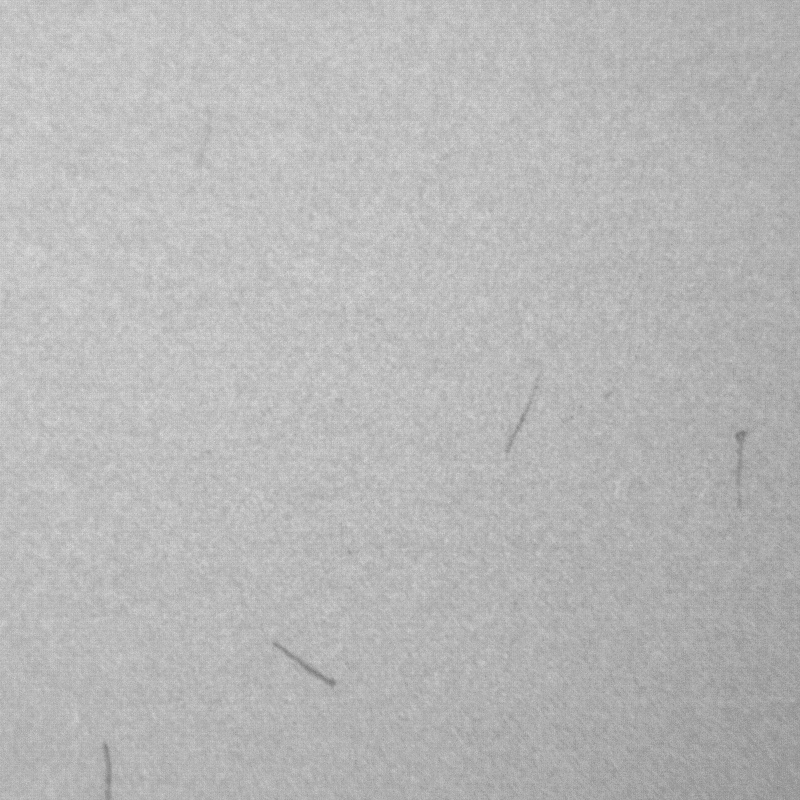defect: (497, 376, 540, 464), (270, 642, 344, 690), (730, 433, 748, 509), (192, 116, 211, 178), (99, 742, 115, 800)
